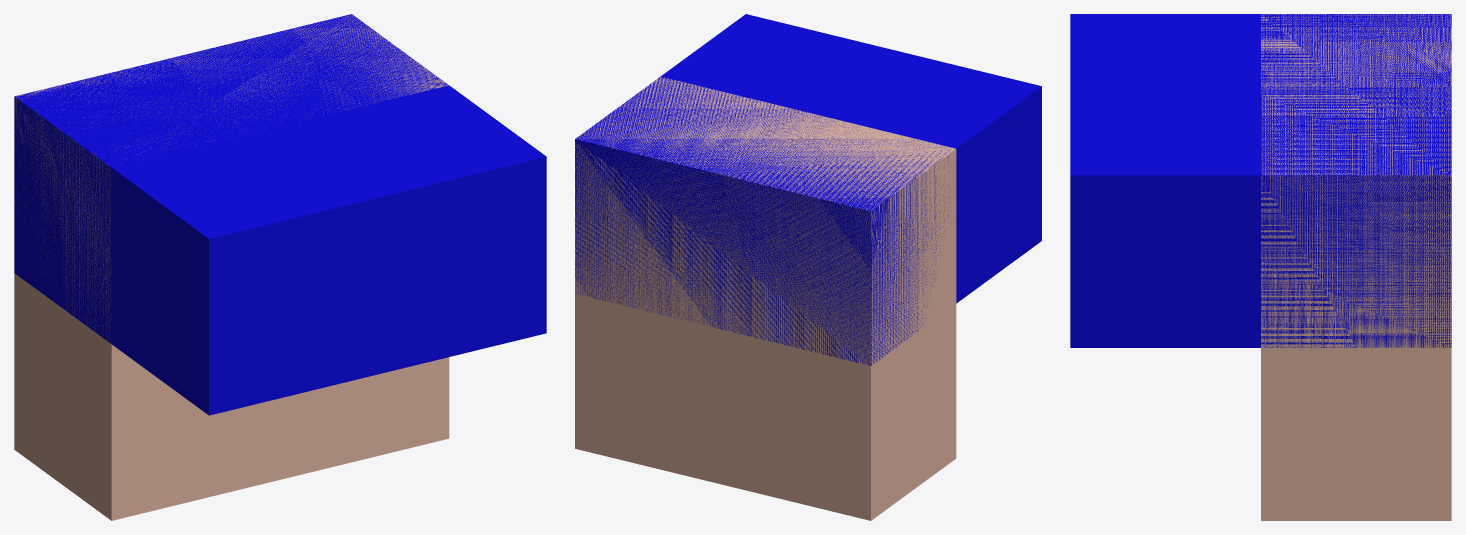
The model's file is SAOCHAOEPAREDE.glb.
3 views of the same model, side by side, from view 1: azimuth 30°, elevation 25°; view 2: azimuth 150°, elevation 25°; view 3: azimuth 270°, elevation 25° (orthographic). The views are drawn at different scales.
Parts seen in each view (by area): view 1: chao-col, paredebege-col; view 2: paredebege-col, chao-col; view 3: chao-col, paredebege-col.
Part boxes in pixels (<box>): chao-col: <box>14,14,546,415</box>; paredebege-col: <box>14,14,449,520</box>; paredebege-col: <box>575,77,956,520</box>; chao-col: <box>575,14,1041,365</box>; chao-col: <box>1070,14,1451,347</box>; paredebege-col: <box>1261,14,1451,520</box>.
Bounding box in the file's own units: 2 × 2 × 2.
